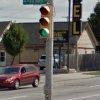Traffic light: (41, 0, 64, 41)
